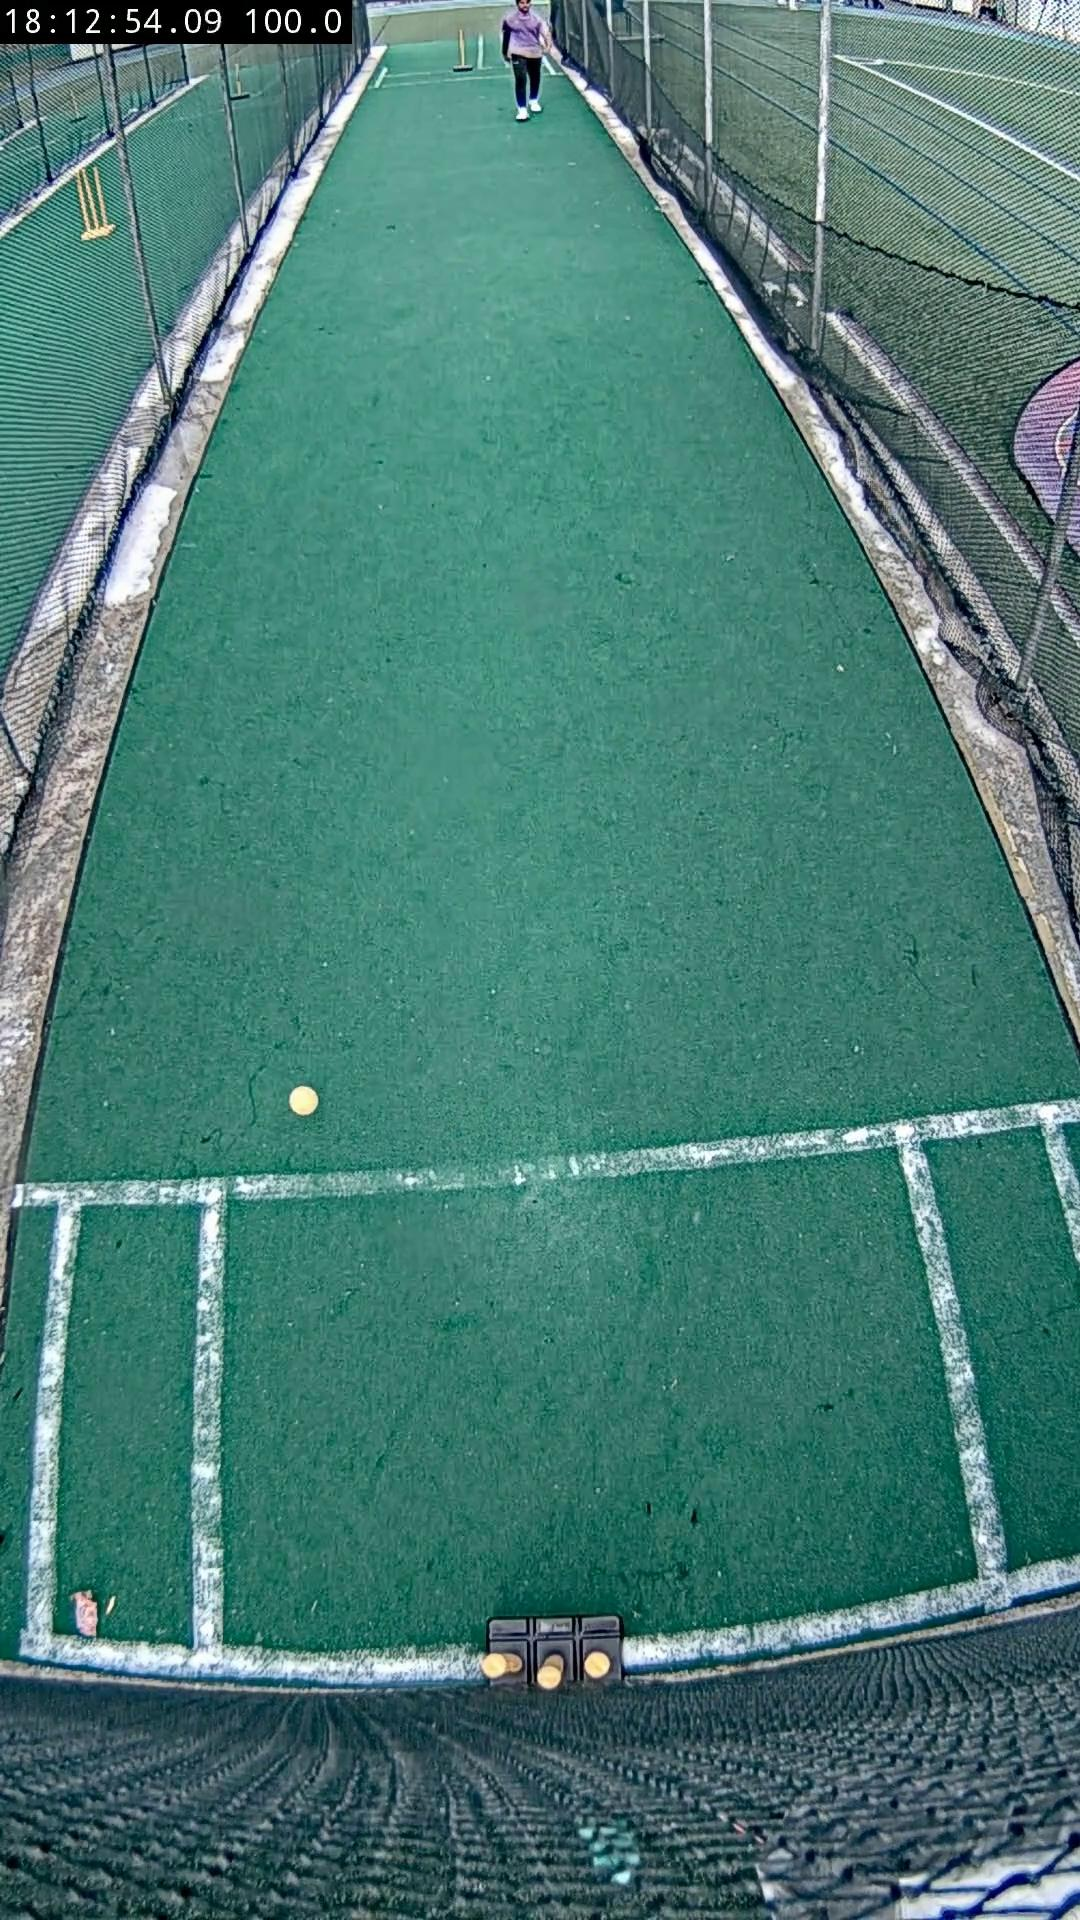ball: (289, 1084, 319, 1117)
stumps: (480, 1617, 622, 1689)
